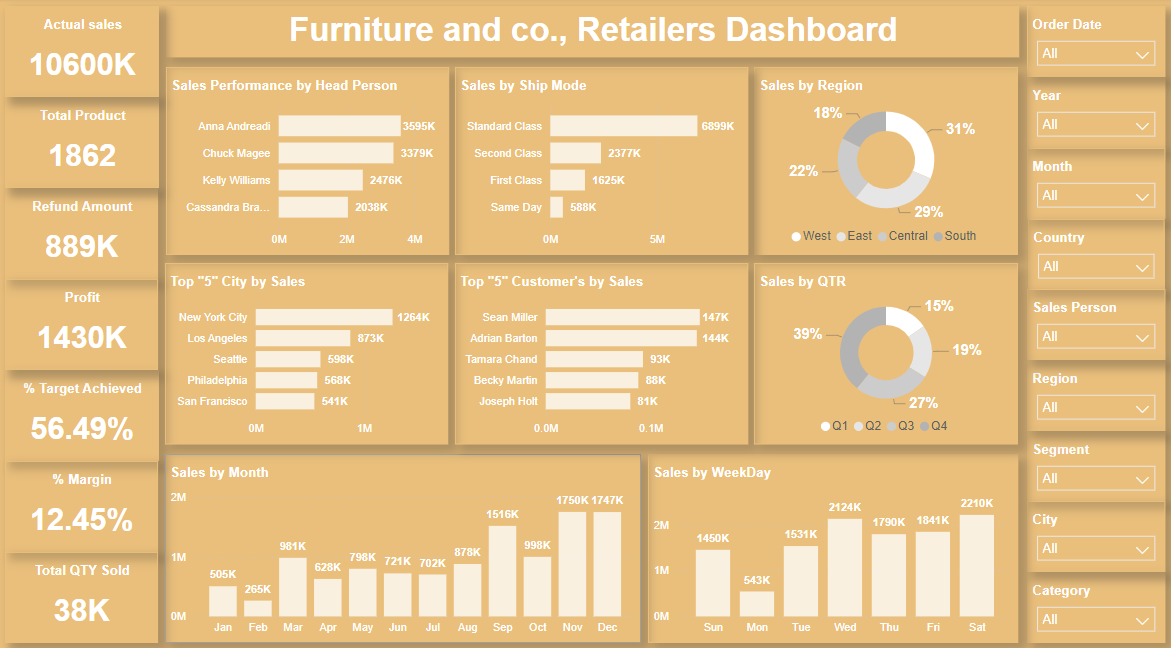

Layout of this report page (visuals, bound fields, positions):
{"tool":"powerbi","page":{"name":"Page 1","canvas":[1280,720],"ordinal":0},"visuals":[{"type":"card","title":"Refund Amount","fields":{"Values":["Measures Table.TotalReturnsAmount"]},"box":[5.5,207.3,167,99.3],"z":0},{"type":"card","title":"% Target Achieved","fields":{"Values":["Measures Table.% Target Achieved"]},"box":[5.5,405.9,168,99.3],"z":1000},{"type":"card","title":"Profit","fields":{"Values":["Measures Table.Profit"]},"box":[5.5,306.6,167,99.3],"z":2000},{"type":"card","title":"% Margin","fields":{"Values":["Measures Table.% Margin"]},"box":[5.5,505.2,167,99.3],"z":3000},{"type":"card","title":"Total QTY Sold","fields":{"Values":["Orders.Quantity"]},"box":[5.5,604.5,167,99.3],"z":4000},{"type":"card","title":"Total Product","fields":{"Values":["Product.Product ID"]},"box":[5.5,108,168,99.3],"z":5000},{"type":"actionButton","title":"Furniture and co., Retailers Dashboard","box":[181.1,8.7,930.8,55.7],"z":6000},{"type":"card","title":"Actual sales","fields":{"Values":["Measures Table.Actual Sales"]},"box":[5.5,8.7,168,99.3],"z":7000},{"type":"slicer","title":"Year","fields":{"Values":["Orders.Year"]},"box":[1120.7,86.2,150.6,77.5],"z":8000},{"type":"slicer","title":"Month","fields":{"Values":["Orders.Month"]},"box":[1120.7,163.7,150.6,77.5],"z":9000},{"type":"slicer","title":"Category","fields":{"Values":["Product.Category"]},"box":[1120.7,626.4,150.6,77.5],"z":10000},{"type":"slicer","title":"Segment","fields":{"Values":["Orders.Segment"]},"box":[1120.7,472.5,150.6,76.4],"z":11000},{"type":"slicer","title":"City","fields":{"Values":["Orders.City"]},"box":[1120.7,548.9,150.6,77.5],"z":12000},{"type":"slicer","title":"Country","fields":{"Values":["Orders.Country"]},"box":[1121.8,241.2,149.5,77.5],"z":13000},{"type":"slicer","title":"Order Date","fields":{"Values":["Orders.Order Date"]},"box":[1120.7,8.7,150.6,77.5],"z":14000},{"type":"slicer","title":"Region","fields":{"Values":["Orders.Region"]},"box":[1120.7,395,150.6,77.5],"z":15000},{"type":"slicer","title":"Sales Person","fields":{"Values":["Orders.SalesPerson"]},"box":[1120.7,317.5,150.6,77.5],"z":16000},{"type":"barChart","title":"Sales Performance by Head Person","fields":{"Category":["Region Heads.Person"],"Y":["Measures Table.Sales"]},"box":[181.1,75.3,308.8,205.1],"z":17000},{"type":"barChart","title":"Top ''''5'''' City by Sales","fields":{"Y":["Measures Table.Sales"],"Category":["Orders.City"]},"box":[180.1,289.2,308.8,197.5],"z":18000},{"type":"donutChart","fields":{"Category":["Orders.Region"],"Y":["Measures Table.Sales"]},"box":[822.8,75.3,288.1,205.1],"z":19000},{"type":"barChart","fields":{"Y":["Measures Table.Sales"],"Category":["Orders.Ship Mode"]},"box":[496.5,75.3,319.7,205.1],"z":20000},{"type":"columnChart","fields":{"Category":["Orders.Month"],"Y":["Measures Table.Sales"]},"box":[180.1,497.6,519.4,206.2],"z":21000},{"type":"columnChart","fields":{"Category":["Orders.WeekDay"],"Y":["Measures Table.Sales"]},"box":[707.1,497.6,403.8,206.2],"z":22000},{"type":"barChart","title":"Top ''''5'''' Customer''s by Sales","fields":{"Category":["Customer.Customer Name"],"Y":["Measures Table.Sales"]},"box":[496.5,289.2,319.7,197.5],"z":23000},{"type":"donutChart","fields":{"Y":["Measures Table.Sales"],"Category":["Orders.QTR"]},"box":[823,289,288,198],"z":24000}]}

Visuals, with their boxes in screenshot pixels (x1, y1, x2, y2), scaled from the page's 1280x720 canvas onto the 1171x648 screenshot:
"Refund Amount" card: detection(5, 187, 158, 276)
"% Target Achieved" card: detection(5, 365, 159, 455)
"Profit" card: detection(5, 276, 158, 365)
"% Margin" card: detection(5, 455, 158, 544)
"Total QTY Sold" card: detection(5, 544, 158, 633)
"Total Product" card: detection(5, 97, 159, 187)
"Furniture and co., Retailers Dashboard" actionButton: detection(166, 8, 1017, 58)
"Actual sales" card: detection(5, 8, 159, 97)
"Year" slicer: detection(1025, 78, 1163, 147)
"Month" slicer: detection(1025, 147, 1163, 217)
"Category" slicer: detection(1025, 564, 1163, 634)
"Segment" slicer: detection(1025, 425, 1163, 494)
"City" slicer: detection(1025, 494, 1163, 564)
"Country" slicer: detection(1026, 217, 1163, 287)
"Order Date" slicer: detection(1025, 8, 1163, 78)
"Region" slicer: detection(1025, 356, 1163, 425)
"Sales Person" slicer: detection(1025, 286, 1163, 356)
"Sales Performance by Head Person" barChart: detection(166, 68, 448, 252)
"Top ''''5'''' City by Sales" barChart: detection(165, 260, 447, 438)
donutChart - Orders.Region x Measures Table.Sales: detection(753, 68, 1016, 252)
barChart - Measures Table.Sales x Orders.Ship Mode: detection(454, 68, 747, 252)
columnChart - Orders.Month x Measures Table.Sales: detection(165, 448, 640, 633)
columnChart - Orders.WeekDay x Measures Table.Sales: detection(647, 448, 1016, 633)
"Top ''''5'''' Customer''s by Sales" barChart: detection(454, 260, 747, 438)
donutChart - Measures Table.Sales x Orders.QTR: detection(753, 260, 1016, 438)
